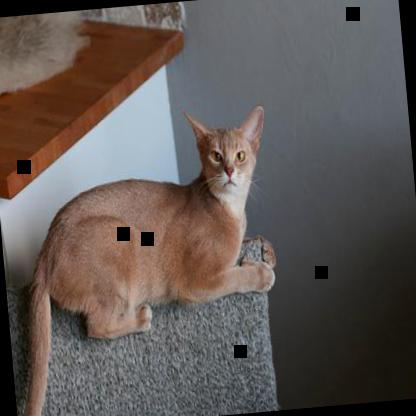cat: (0, 102, 293, 415)
